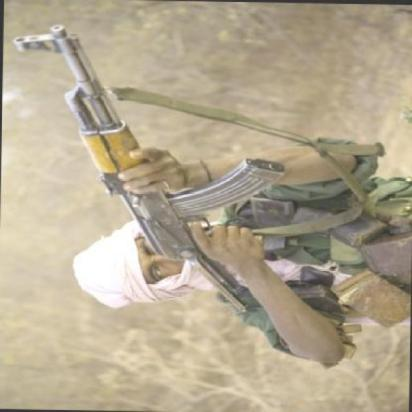Gun: (22, 23, 294, 313)
